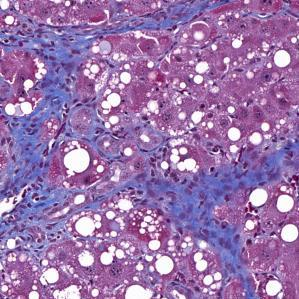fibrosis: (77, 148, 269, 219), (4, 77, 136, 167)
